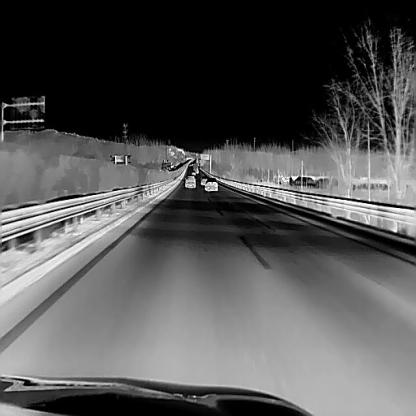car: (204, 176, 217, 190), (184, 175, 196, 187), (199, 174, 207, 184)
truck: (160, 160, 170, 171)
